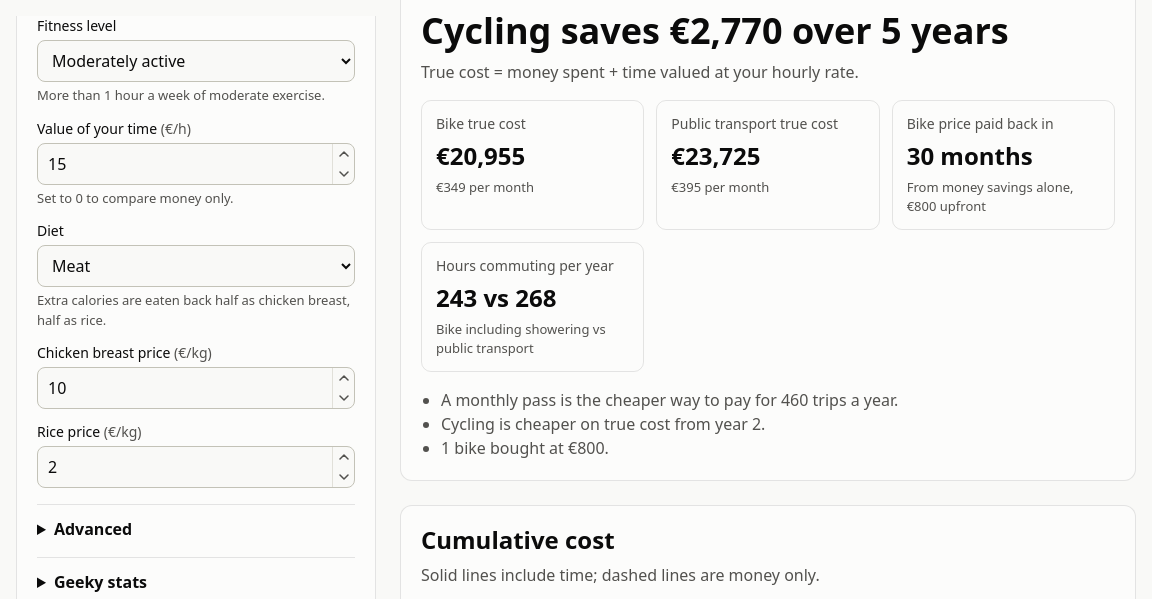
Scenario: App › keeps typed protein prices when switching diet
The width and height of the screenshot is (1152, 599).
(page scrolled)
Replace the text in the field labelled "Chicken breast price (€/kg)" with "14": (196, 388) left=37, top=368, right=355, bottom=410
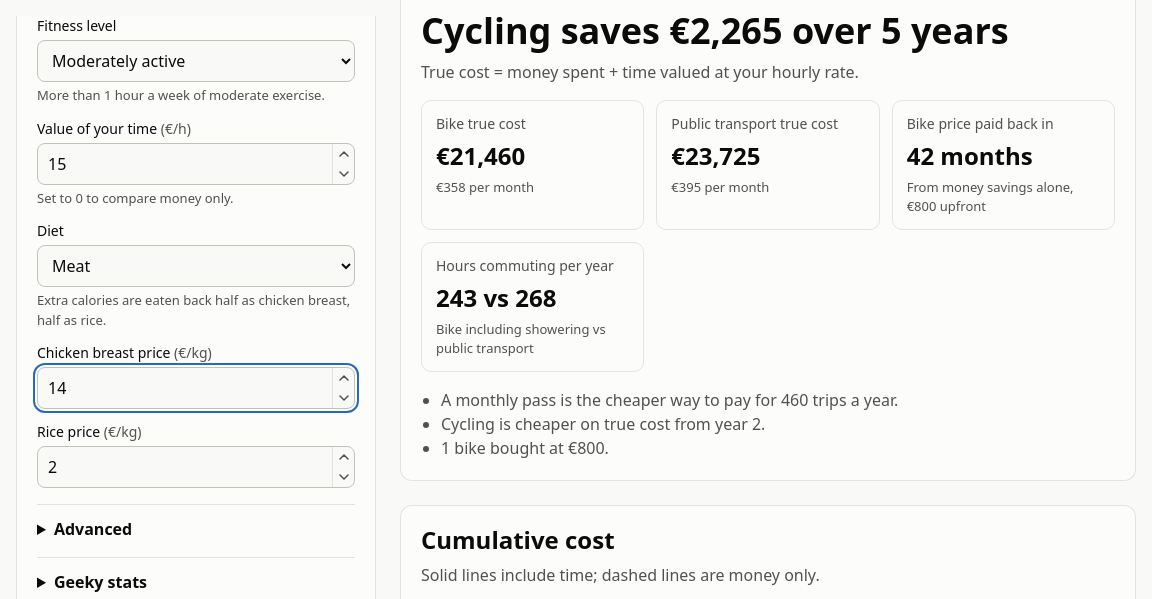
Select "Vegan" in the dropdown labelled "Diet": (196, 266) left=37, top=246, right=355, bottom=288
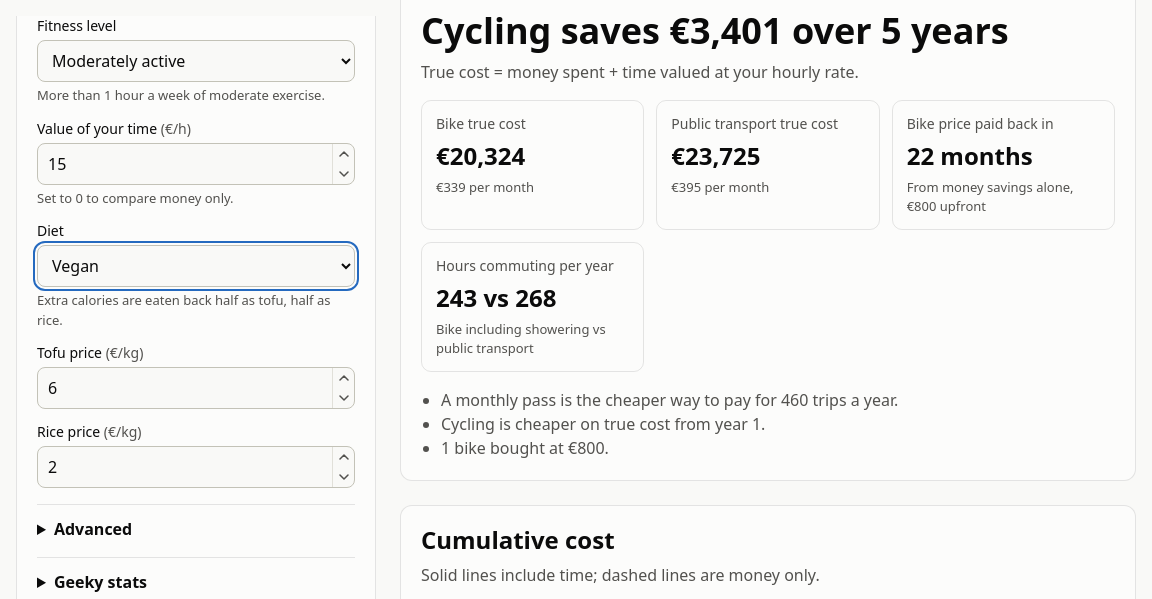
Select "Meat" in the dropdown labelled "Diet": (196, 266) left=37, top=246, right=355, bottom=288
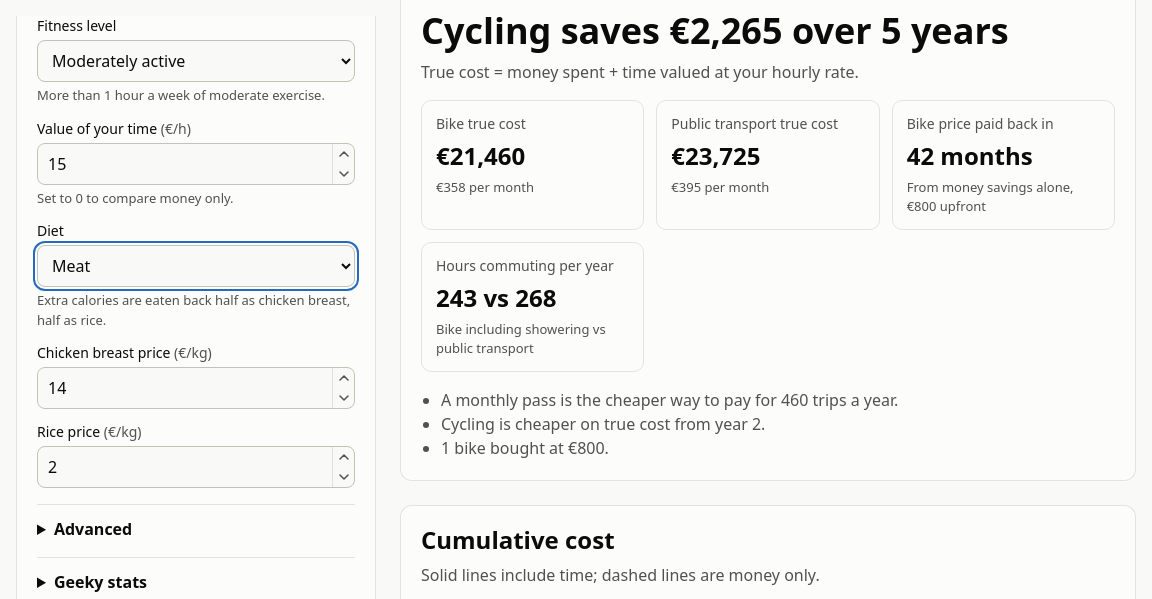
expect the field labelled "Chicken breast price (€/kg)" holds "14": met, box left=37, top=368, right=355, bottom=410
